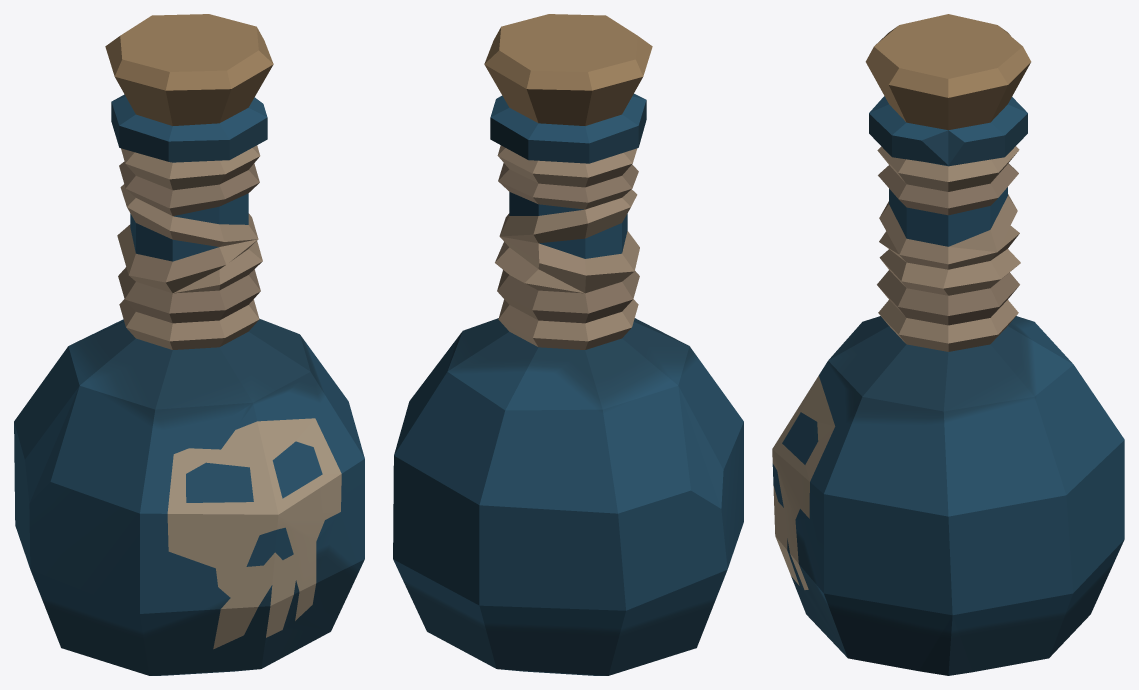
File: SM_Prop_Bottle_01.fbx
3 renders of one model, left to right at view 1: azimuth 30°, elevation 25°; view 2: azimuth 150°, elevation 25°; view 3: azimuth 270°, elevation 25°, orthographic.
Visible parts, largest first — view 1: SM_Prop_Bottle_01; view 2: SM_Prop_Bottle_01; view 3: SM_Prop_Bottle_01.
Part boxes in pixels (x1=…): SM_Prop_Bottle_01: x1=14, y1=14, x2=364, y2=675; SM_Prop_Bottle_01: x1=393, y1=14, x2=743, y2=675; SM_Prop_Bottle_01: x1=772, y1=14, x2=1124, y2=675.
Bounding box in the file's own units: 33.37 × 59.71 × 32.33.
